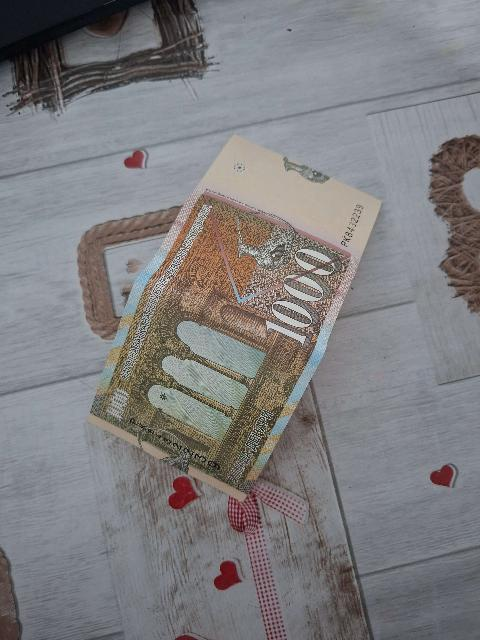1000_note: (89, 137, 379, 499)
